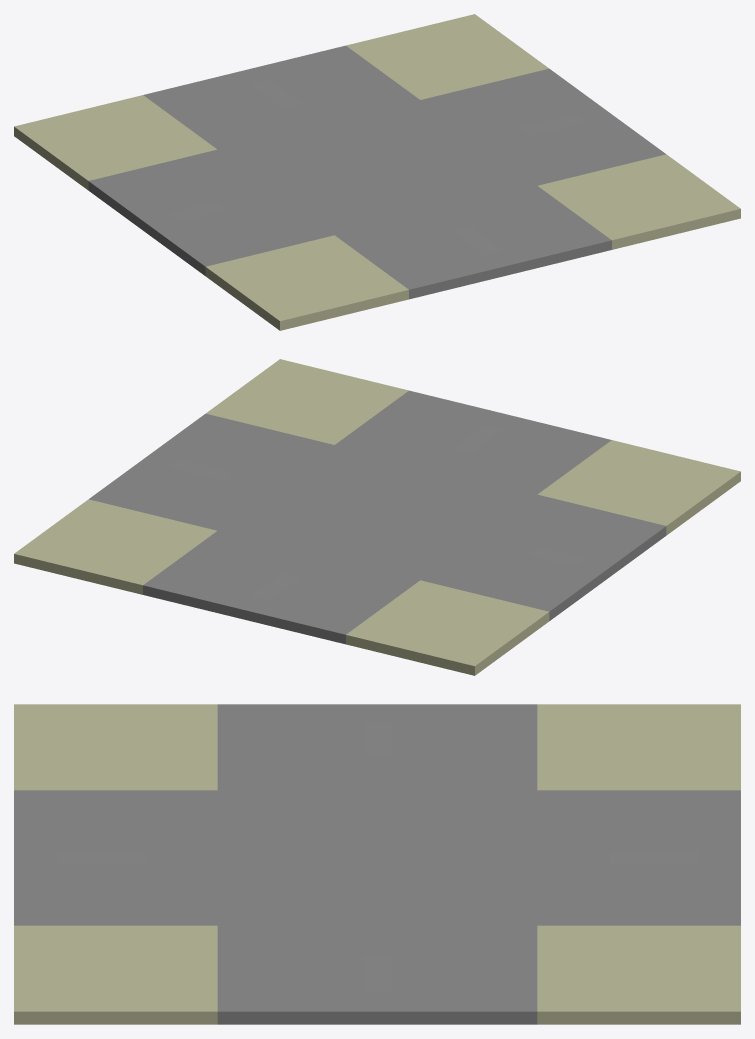
Rendered from base_crossstreet.obj.
The picture shows the model from 3 angles, top to bottom: view 1: azimuth 30°, elevation 25°; view 2: azimuth 150°, elevation 25°; view 3: azimuth 270°, elevation 25°; orthographic projection. The views are drawn at different scales.
Size of the model in its own units: 50 by 1 by 50.
